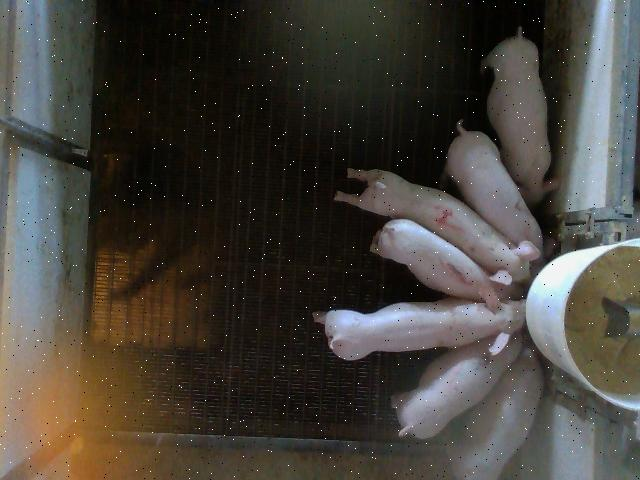pig-1: (371, 219, 489, 301)
pig-4: (335, 169, 540, 284)
